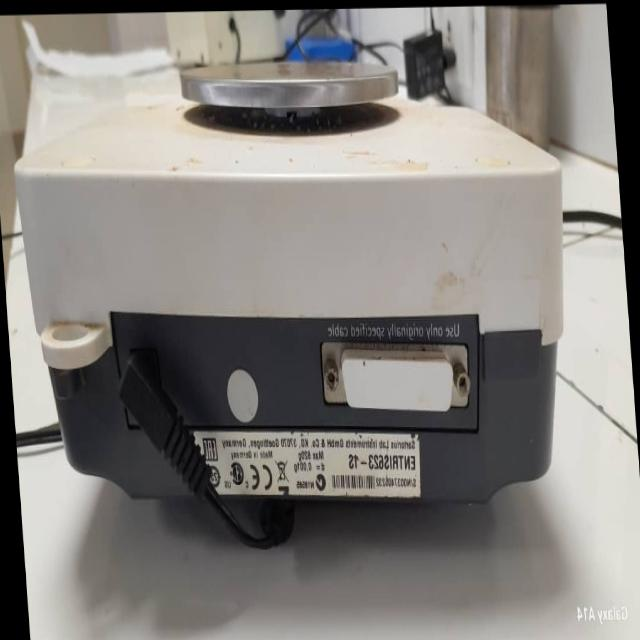Electronic balance: (9, 23, 607, 521)
